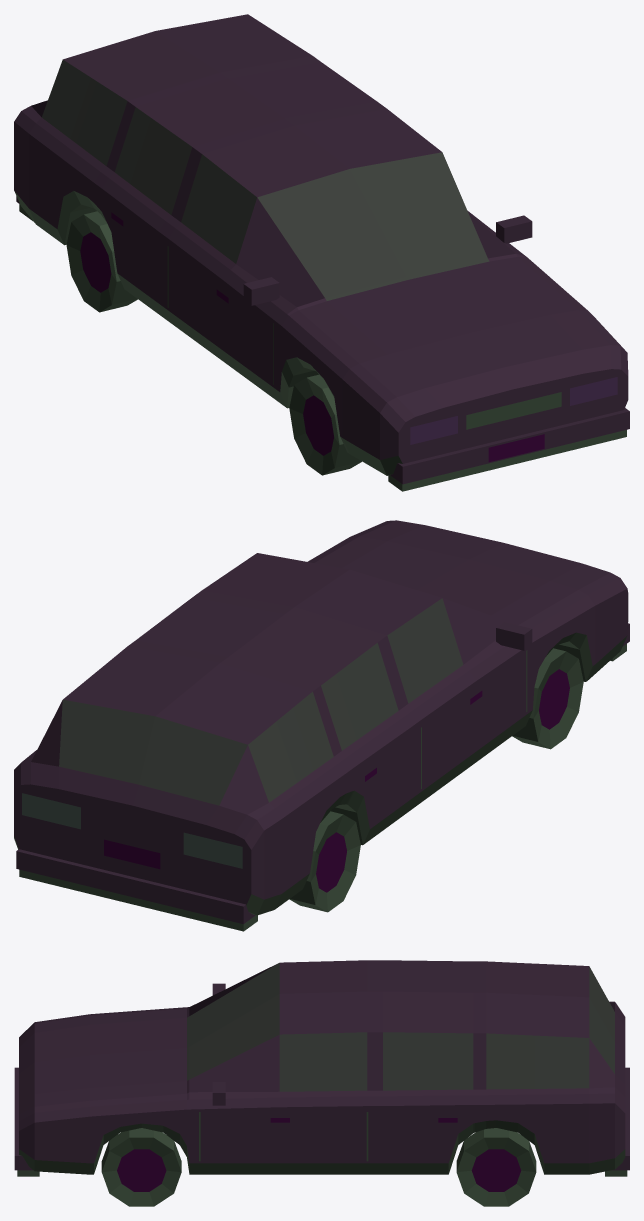
The model's file is car_c.glb.
3 renders of one model, top to bottom at view 1: azimuth 30°, elevation 25°; view 2: azimuth 150°, elevation 25°; view 3: azimuth 270°, elevation 25°, orthographic. The views are drawn at different scales.
Visible parts, largest first — view 1: car_c; view 2: car_c; view 3: car_c.
Part boxes in pixels (x1,y1,x2,y2): car_c: (14, 14, 629, 491); car_c: (14, 520, 629, 931); car_c: (14, 960, 629, 1206).
Bounding box in the file's own units: 2 × 1.43 × 4.78.
